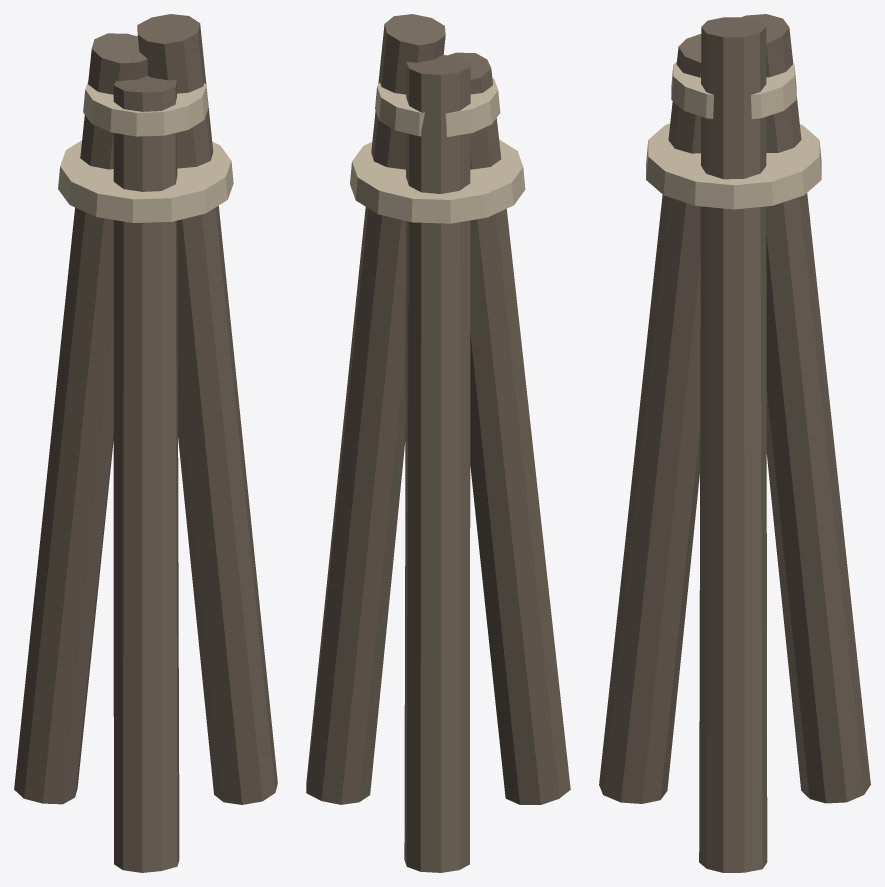
The model's file is D04_系船桩群.fbx.
3 views of the same model, side by side, from view 1: azimuth 30°, elevation 25°; view 2: azimuth 150°, elevation 25°; view 3: azimuth 270°, elevation 25° (orthographic). The views are drawn at different scales.
Parts seen in each view (by area): view 1: D04_桩, D04_捆绳; view 2: D04_桩, D04_捆绳; view 3: D04_桩, D04_捆绳.
Boxes of the visible parts, left/top/right/bottom form: D04_桩: left=14, top=14, right=277, bottom=872; D04_捆绳: left=58, top=81, right=233, bottom=222; D04_桩: left=306, top=14, right=570, bottom=872; D04_捆绳: left=350, top=78, right=525, bottom=223; D04_桩: left=599, top=14, right=870, bottom=872; D04_捆绳: left=646, top=61, right=821, bottom=209.
Size of the model in its own units: 113 by 413 by 127.
